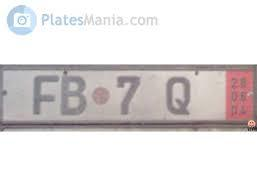7: (114, 73, 141, 117)
B: (60, 75, 87, 116)
F: (32, 73, 59, 117)
Q: (163, 74, 193, 117)
